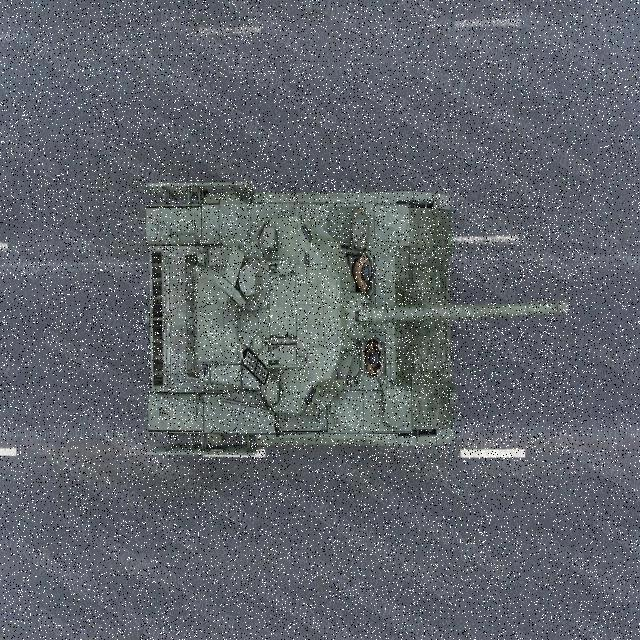MIL_MBT: (132, 180, 578, 462)
